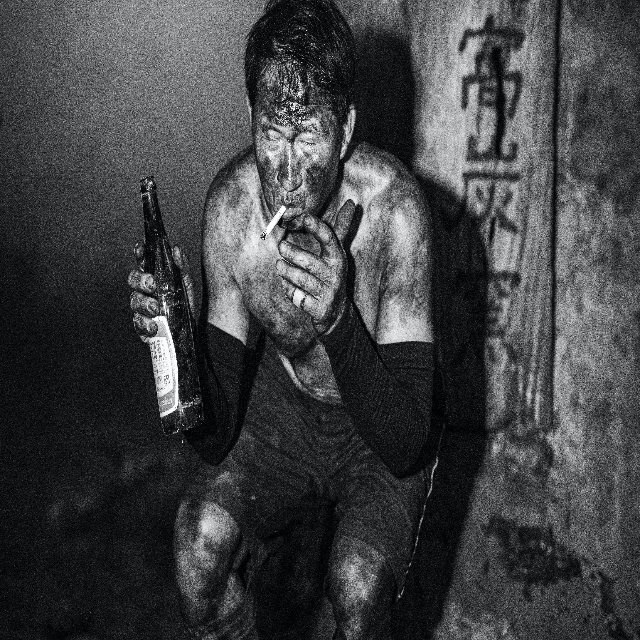Sin_guantes: (277, 202, 356, 324)
